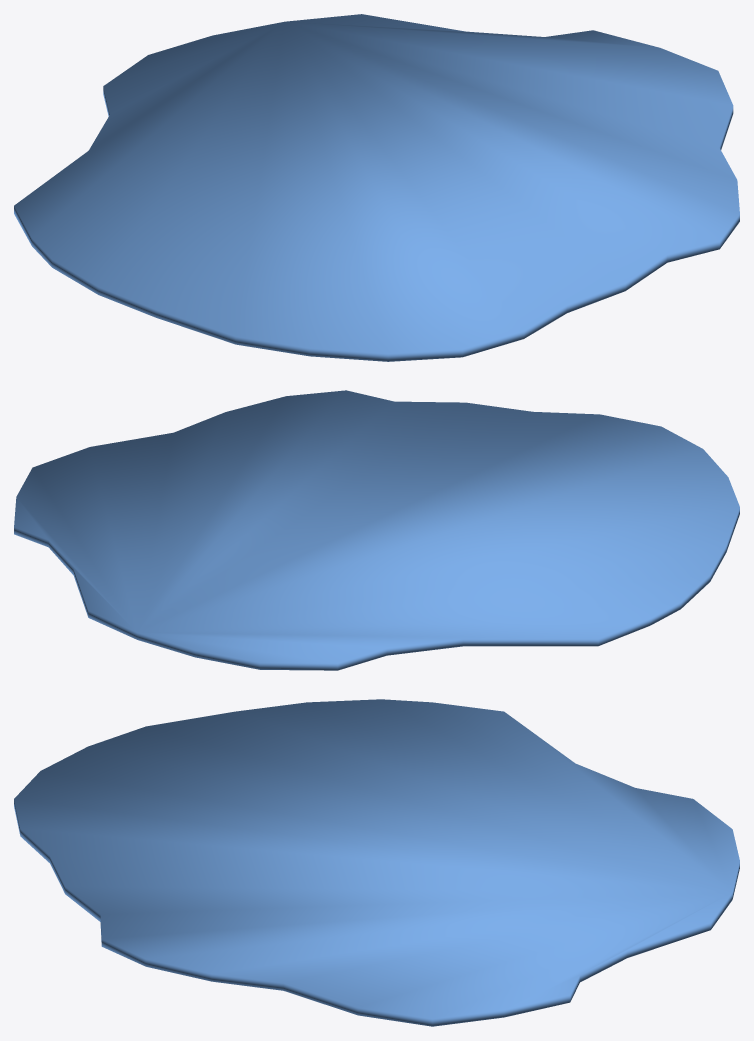
File: Puddle 1.fbx
The picture shows the model from 3 angles, top to bottom: view 1: azimuth 30°, elevation 25°; view 2: azimuth 150°, elevation 25°; view 3: azimuth 270°, elevation 25°; orthographic projection. The views are drawn at different scales.
Visible parts, largest first — view 1: Circle; view 2: Circle; view 3: Circle.
Part boxes in pixels (bbox=[...]): Circle: bbox=[14, 14, 739, 361]; Circle: bbox=[14, 390, 739, 670]; Circle: bbox=[14, 699, 739, 1026].
Bounding box in the file's own units: 560 × 6.32 × 537.
